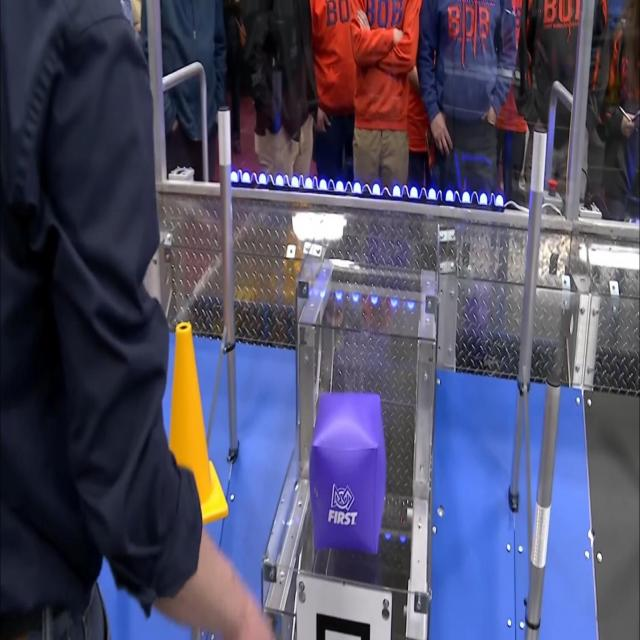frc_cone: (168, 328, 227, 527)
frc_cube: (310, 390, 387, 554)
